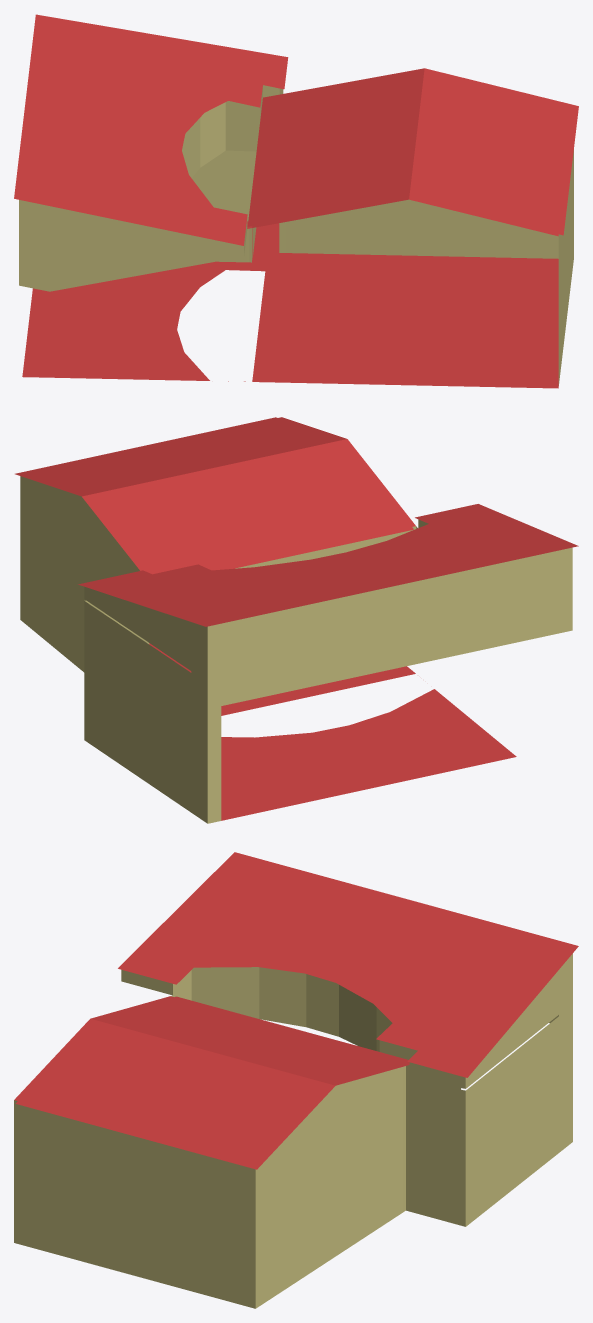
The picture shows the model from 3 angles, top to bottom: view 1: azimuth 30°, elevation 25°; view 2: azimuth 150°, elevation 25°; view 3: azimuth 270°, elevation 25°; orthographic projection. The views are drawn at different scales.
Bounding box in the file's own units: 34.55 × 31.22 × 11.9.
